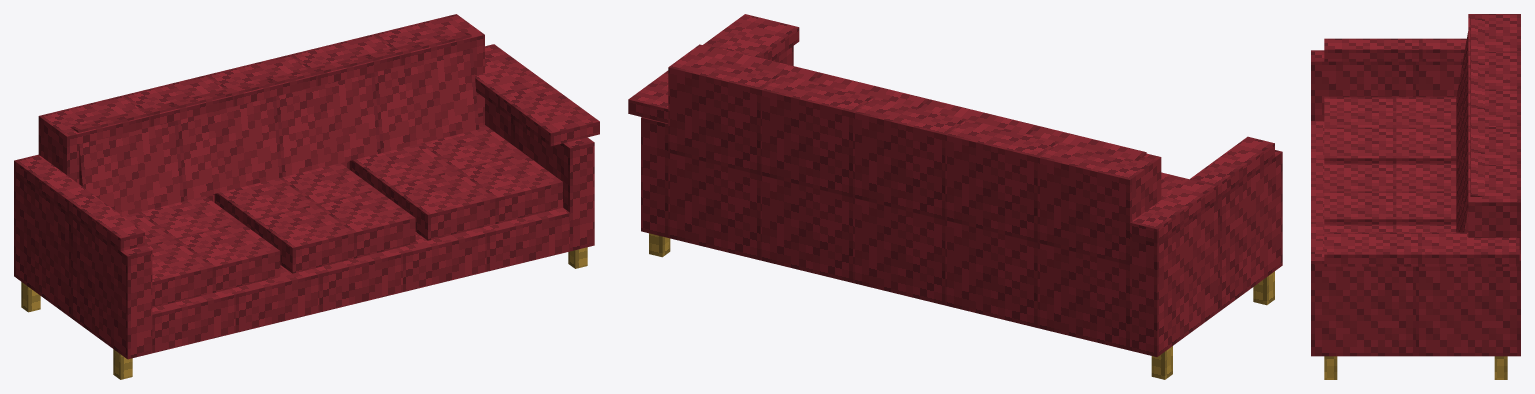
File: loungeCouchWideMansion_0.glb
3 renders of one model, left to right at view 1: azimuth 30°, elevation 25°; view 2: azimuth 150°, elevation 25°; view 3: azimuth 270°, elevation 25°, orthographic. The views are drawn at different scales.
Visible parts, largest first — view 1: loungeCouchWideMansion_0; view 2: loungeCouchWideMansion_0; view 3: loungeCouchWideMansion_0.
Boxes of the visible parts, bbox=[...] form: loungeCouchWideMansion_0: bbox=[14, 14, 599, 379]; loungeCouchWideMansion_0: bbox=[628, 14, 1282, 379]; loungeCouchWideMansion_0: bbox=[1311, 14, 1520, 379].
Bounding box in the file's own units: 2.44 × 0.886 × 1.
1 material, 1 textured.
